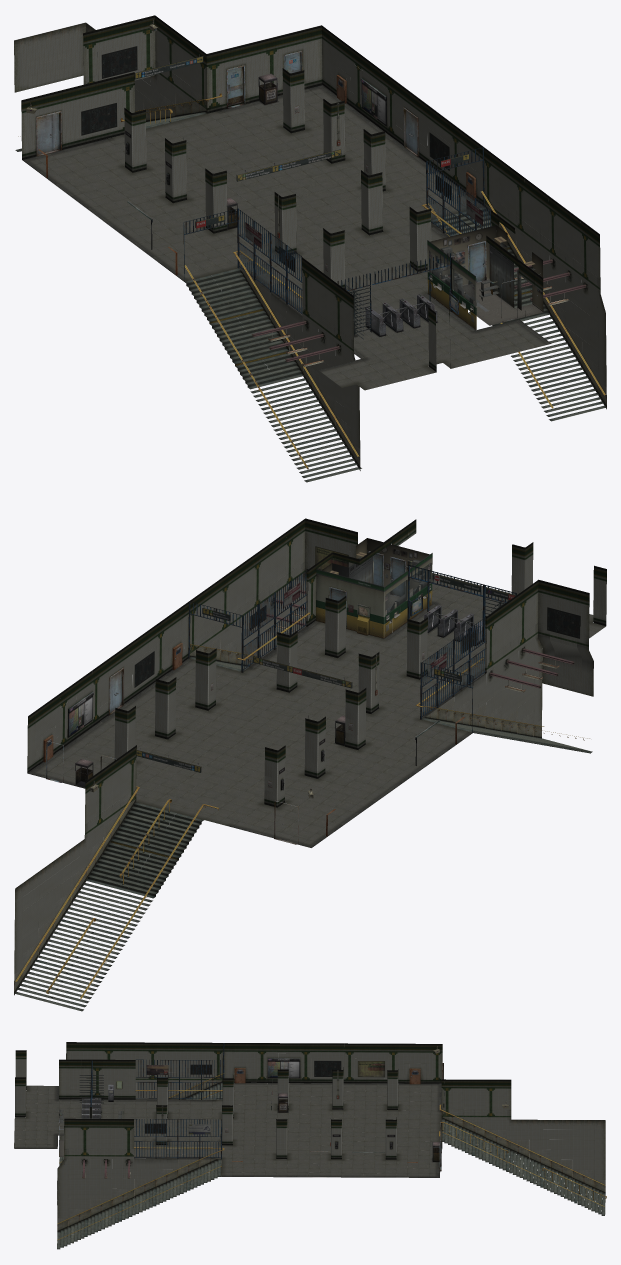
File: subway_station.glb
The picture shows the model from 3 angles, top to bottom: view 1: azimuth 30°, elevation 25°; view 2: azimuth 150°, elevation 25°; view 3: azimuth 270°, elevation 25°; orthographic projection. The views are drawn at different scales.
Visible parts, largest first — view 1: FrontSide_8, FrontSide_11, FrontSide_6, FrontSide_7, FrontSide_0, FrontSide_10, FrontSide_4, FrontSide_5, FrontSide_2, FrontSide_1, FrontSide_9; view 2: FrontSide_8, FrontSide_11, FrontSide_6, FrontSide_7, FrontSide_0, FrontSide_1, FrontSide_5, FrontSide_4, FrontSide_10, FrontSide_2, FrontSide_9; view 3: FrontSide_11, FrontSide_8, FrontSide_6, FrontSide_0, FrontSide_7, FrontSide_4, FrontSide_5, FrontSide_2, FrontSide_9.
Part boxes in pixels (x1,y1,x2,y2): FrontSide_8: [22, 75, 551, 390]; FrontSide_11: [21, 15, 600, 427]; FrontSide_6: [15, 87, 606, 482]; FrontSide_7: [127, 51, 586, 362]; FrontSide_0: [14, 22, 606, 448]; FrontSide_10: [429, 225, 543, 325]; FrontSide_4: [77, 41, 482, 272]; FrontSide_5: [124, 56, 469, 314]; FrontSide_2: [26, 19, 568, 366]; FrontSide_1: [427, 240, 540, 329]; FrontSide_9: [125, 73, 345, 229]; FrontSide_8: [27, 573, 605, 847]; FrontSide_11: [22, 518, 606, 953]; FrontSide_6: [14, 612, 592, 1011]; FrontSide_7: [46, 565, 574, 782]; FrontSide_0: [14, 519, 593, 973]; FrontSide_1: [316, 551, 432, 638]; FrontSide_5: [136, 573, 515, 806]; FrontSide_4: [132, 542, 583, 691]; FrontSide_10: [322, 538, 430, 631]; FrontSide_2: [43, 587, 559, 844]; FrontSide_9: [75, 715, 345, 790]; FrontSide_11: [15, 1042, 594, 1208]; FrontSide_8: [14, 1082, 441, 1177]; FrontSide_6: [57, 1072, 606, 1249]; FrontSide_0: [57, 1053, 605, 1218]; FrontSide_7: [79, 1043, 444, 1178]; FrontSide_4: [64, 1058, 387, 1159]; FrontSide_5: [91, 1055, 444, 1159]; FrontSide_2: [82, 1046, 509, 1178]; FrontSide_9: [278, 1093, 439, 1161].
Size of what is drawn, in the model's own units: 20.12 by 11.08 by 51.15.
12 materials, 12 textured.
